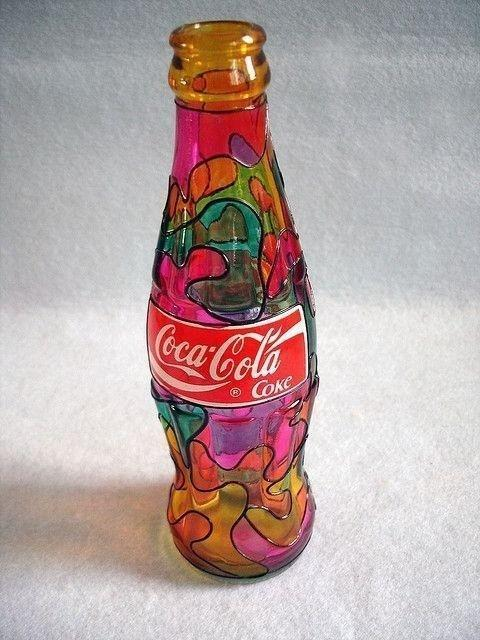bottle-glass: (141, 16, 321, 586)
